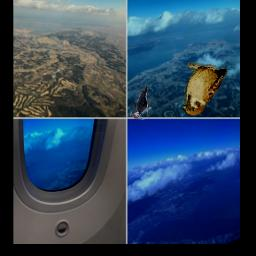Sparrow: (181, 62, 227, 115)
Woodpecker: (132, 85, 150, 120)
